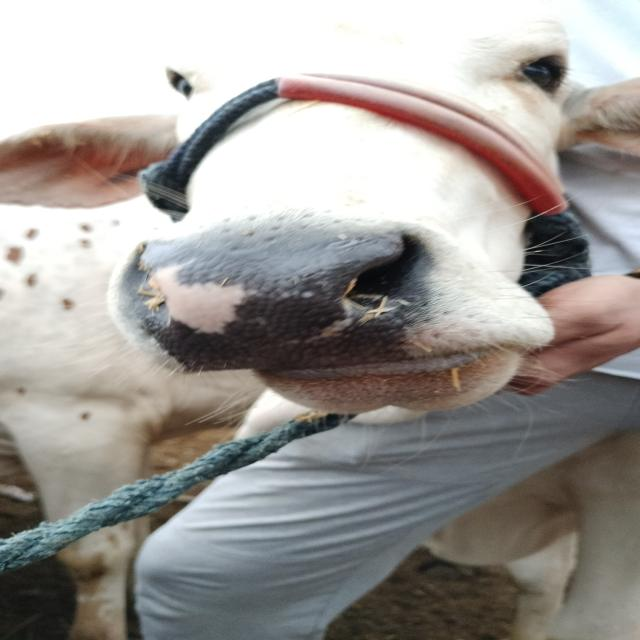muzzles: (94, 222, 508, 398)
